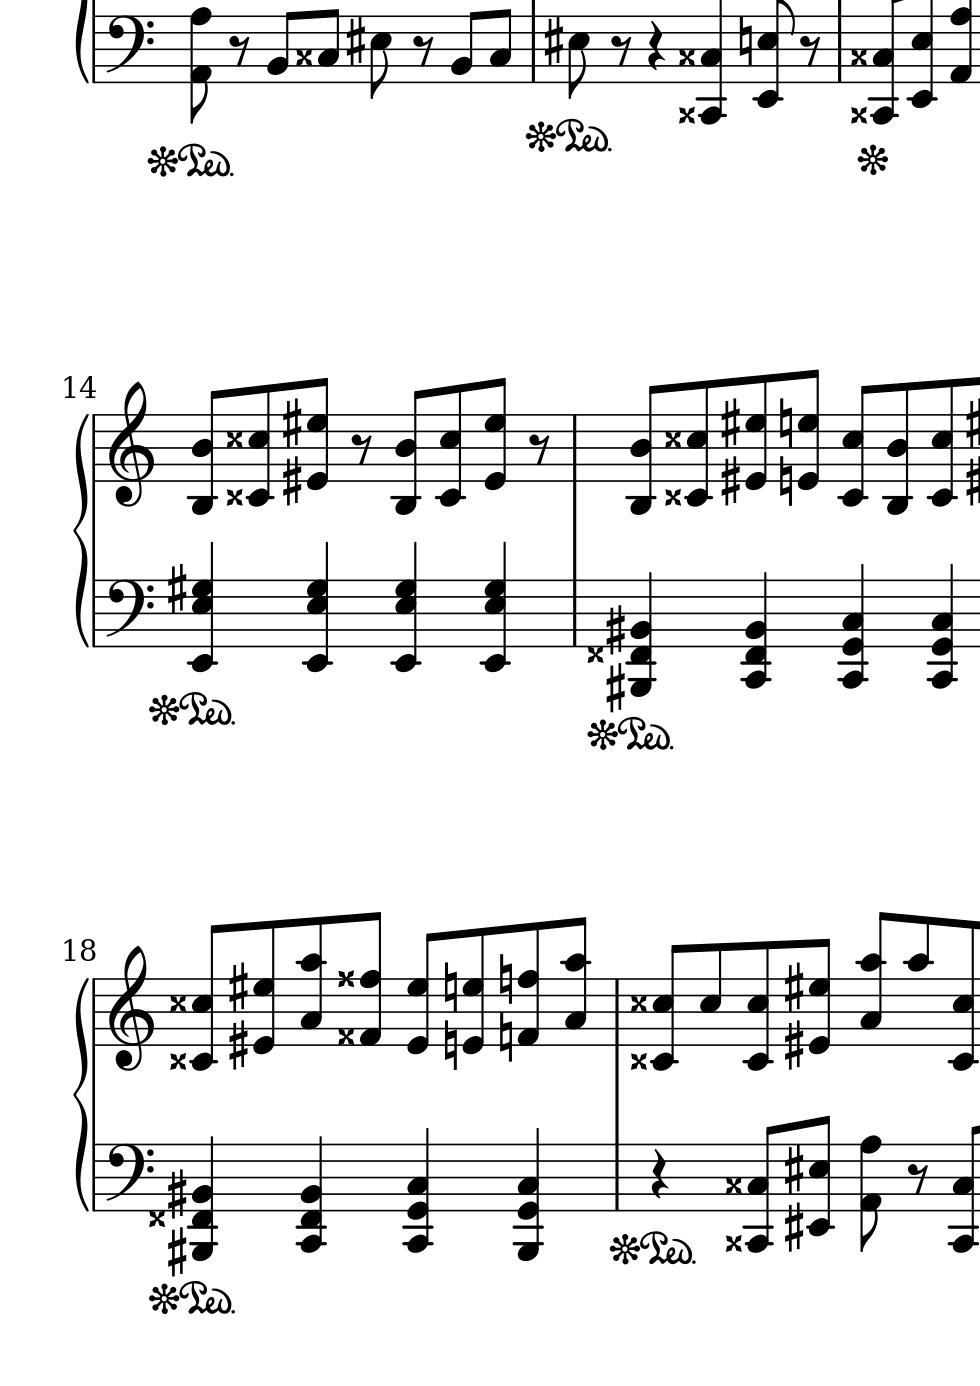1: (62, 374, 77, 403), (63, 937, 76, 963)
4: (78, 373, 98, 402)
4_th: (301, 536, 335, 676), (390, 536, 424, 676), (512, 1124, 545, 1262), (477, 536, 509, 678), (926, 563, 960, 690), (402, 1125, 434, 1253), (836, 563, 868, 689), (295, 1134, 328, 1256), (739, 572, 771, 691)
8: (78, 935, 97, 963)
8_-2_5: (649, 943, 690, 1072), (189, 923, 223, 1073), (837, 383, 874, 509), (683, 380, 716, 507), (927, 379, 959, 506), (743, 941, 774, 1072), (243, 385, 276, 507), (434, 384, 465, 508), (807, 1115, 836, 1236)
8_-3_4: (183, 387, 224, 515), (389, 388, 430, 516), (625, 383, 662, 517), (882, 383, 914, 517)
8_-4_3: (745, 1123, 778, 1253), (948, 1124, 980, 1255)
8_0_7: (405, 932, 439, 1055), (252, 922, 277, 1055), (461, 929, 486, 1058), (797, 369, 822, 492), (305, 378, 331, 492), (743, 375, 768, 492), (484, 378, 508, 491), (808, 937, 832, 1054)
8_10: (904, 913, 932, 1050)
8_1_8: (358, 910, 383, 1047), (518, 922, 542, 1049), (189, 6, 214, 124), (859, 1134, 882, 1252)
8_2: (449, 10, 479, 84), (266, 10, 296, 83)
8_3: (316, 7, 340, 84), (489, 8, 513, 85)
8_3_10: (856, 910, 893, 1048), (296, 916, 327, 1048), (561, 917, 592, 1048)
8_5: (697, 940, 722, 1048), (367, 13, 392, 99), (565, 14, 591, 100)
DSharp: (848, 104, 871, 126), (335, 967, 356, 989), (584, 645, 606, 666), (723, 1232, 745, 1253), (677, 105, 698, 126), (167, 993, 189, 1013), (224, 486, 244, 508), (663, 486, 683, 508), (663, 487, 683, 508), (223, 428, 244, 449), (628, 1051, 648, 1072), (294, 47, 313, 69), (628, 993, 647, 1015), (848, 104, 869, 124), (663, 429, 683, 450), (628, 993, 648, 1013), (146, 1208, 167, 1228), (723, 1176, 743, 1196), (723, 1234, 743, 1255), (337, 968, 355, 990), (677, 46, 696, 66), (662, 429, 682, 449), (336, 1027, 356, 1046), (723, 1177, 743, 1196), (294, 48, 313, 67), (167, 994, 186, 1013), (167, 1052, 186, 1071), (169, 1052, 187, 1072), (337, 1027, 355, 1046), (848, 47, 867, 66), (225, 429, 242, 450), (629, 1050, 646, 1070), (678, 48, 695, 67), (678, 105, 695, 124), (226, 487, 243, 506), (850, 49, 867, 67)
Fclef: (104, 578, 157, 650), (102, 13, 154, 85), (102, 1142, 154, 1214)
Gclef: (107, 380, 155, 508), (107, 944, 154, 1073)
Natural: (776, 394, 794, 450), (736, 15, 754, 69), (441, 960, 459, 1014), (496, 951, 514, 1004), (497, 1011, 514, 1064), (442, 1019, 459, 1071), (777, 454, 793, 507)
Rests4: (647, 1148, 670, 1203), (645, 19, 664, 73)
Rests8: (905, 1161, 931, 1196), (349, 431, 374, 467), (527, 432, 552, 468), (798, 34, 822, 69), (228, 33, 251, 67), (609, 33, 632, 67), (412, 33, 434, 67)
Sharp: (163, 561, 190, 617), (780, 1143, 805, 1197), (781, 961, 806, 1013), (225, 961, 249, 1013), (541, 15, 564, 68), (344, 15, 367, 67), (280, 397, 303, 449), (718, 397, 741, 449), (603, 602, 627, 654), (167, 1166, 189, 1220), (782, 1019, 804, 1071), (603, 662, 626, 712), (281, 456, 302, 508), (227, 1020, 248, 1071), (720, 456, 740, 508), (783, 1203, 803, 1253), (167, 1226, 186, 1276), (962, 398, 977, 450)
Single_barline: (608, 1144, 625, 1211), (566, 581, 583, 646), (566, 415, 582, 481), (525, 16, 541, 82), (609, 979, 625, 1045), (832, 16, 846, 82), (88, 979, 102, 1046), (88, 1144, 102, 1211), (88, 415, 101, 483), (89, 15, 101, 82), (89, 581, 101, 646)
